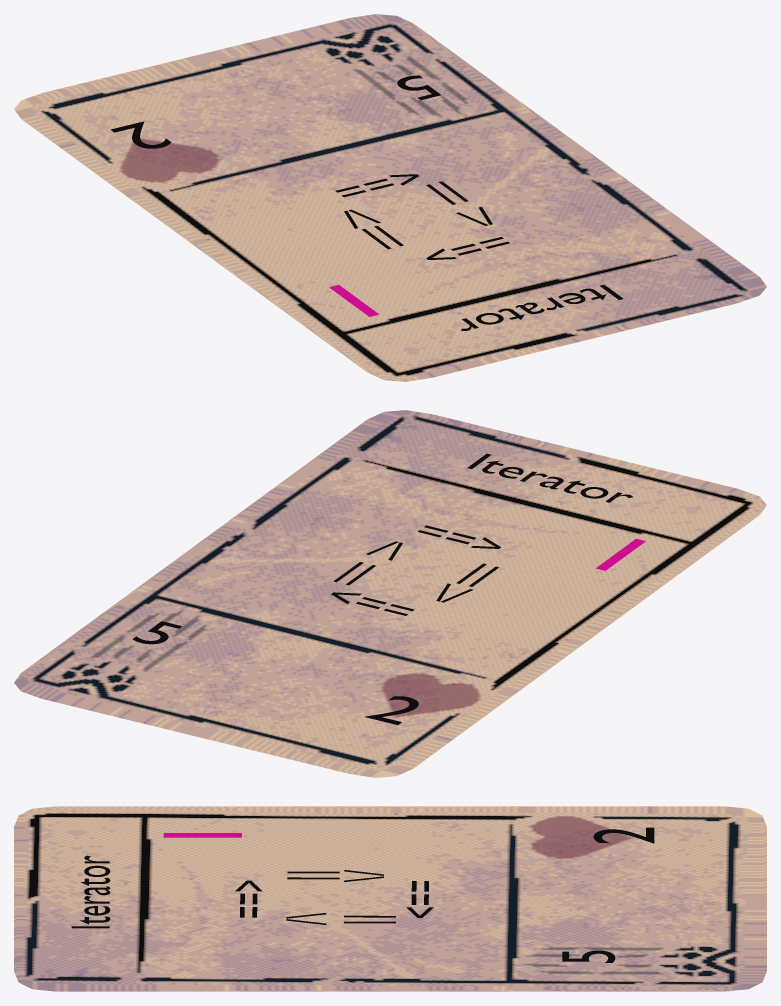
File: Iterator.glb
3 renders of one model, top to bottom at view 1: azimuth 30°, elevation 25°; view 2: azimuth 150°, elevation 25°; view 3: azimuth 270°, elevation 25°, orthographic. The views are drawn at different scales.
Visible parts, largest first — view 1: Iterator; view 2: Iterator; view 3: Iterator.
Boxes of the visible parts, left/top/right/bottom form: Iterator: left=14, top=14, right=766, bottom=381; Iterator: left=14, top=410, right=766, bottom=777; Iterator: left=14, top=806, right=766, bottom=991.
Size of what is drawn, in the model's own units: 44.93 by 0.4028 by 77.22.
Materials: 5 (1 with a texture image).
